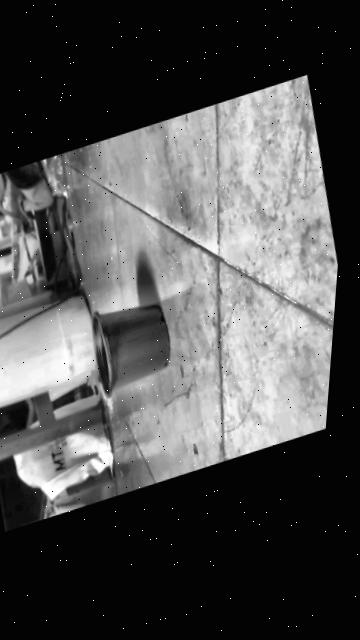pot: (81, 287, 181, 401)
